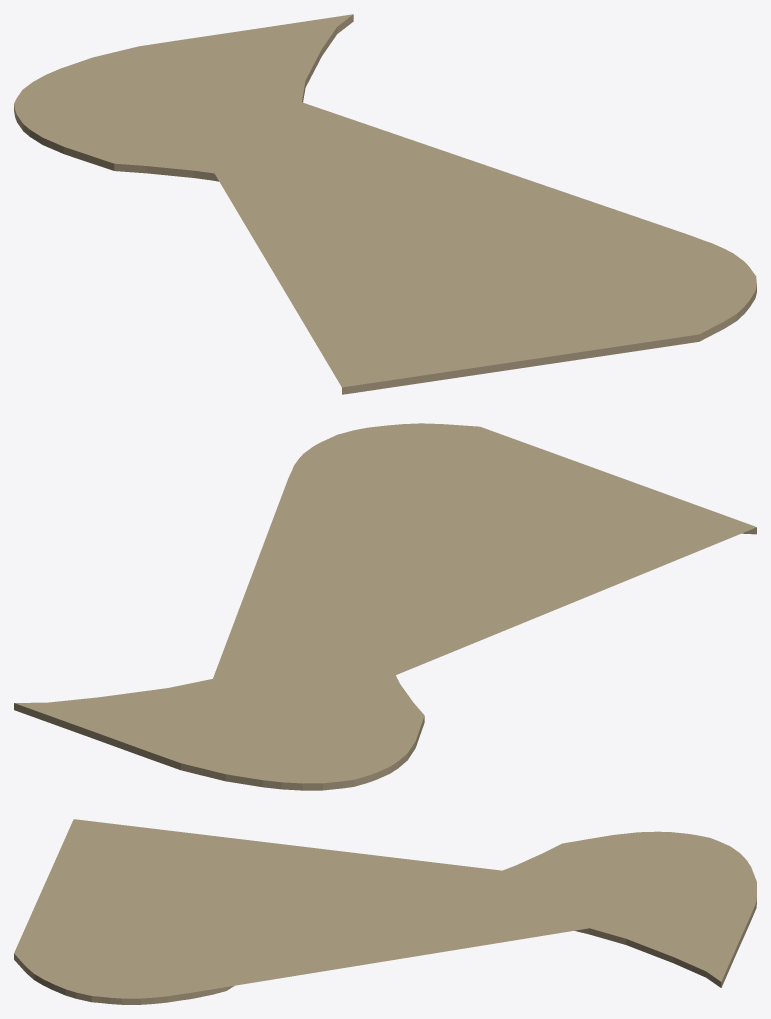
The picture shows the model from 3 angles, top to bottom: view 1: azimuth 30°, elevation 25°; view 2: azimuth 150°, elevation 25°; view 3: azimuth 270°, elevation 25°; orthographic projection. The views are drawn at different scales.
Visible parts, largest first — view 1: Cube.013; view 2: Cube.013; view 3: Cube.013.
Part boxes in pixels (left/top/right/bottom): Cube.013: left=14, top=14, right=756, bottom=394; Cube.013: left=14, top=423, right=756, bottom=790; Cube.013: left=14, top=819, right=756, bottom=1004.
Bounding box in the file's own units: 917 × 15 × 1605.
